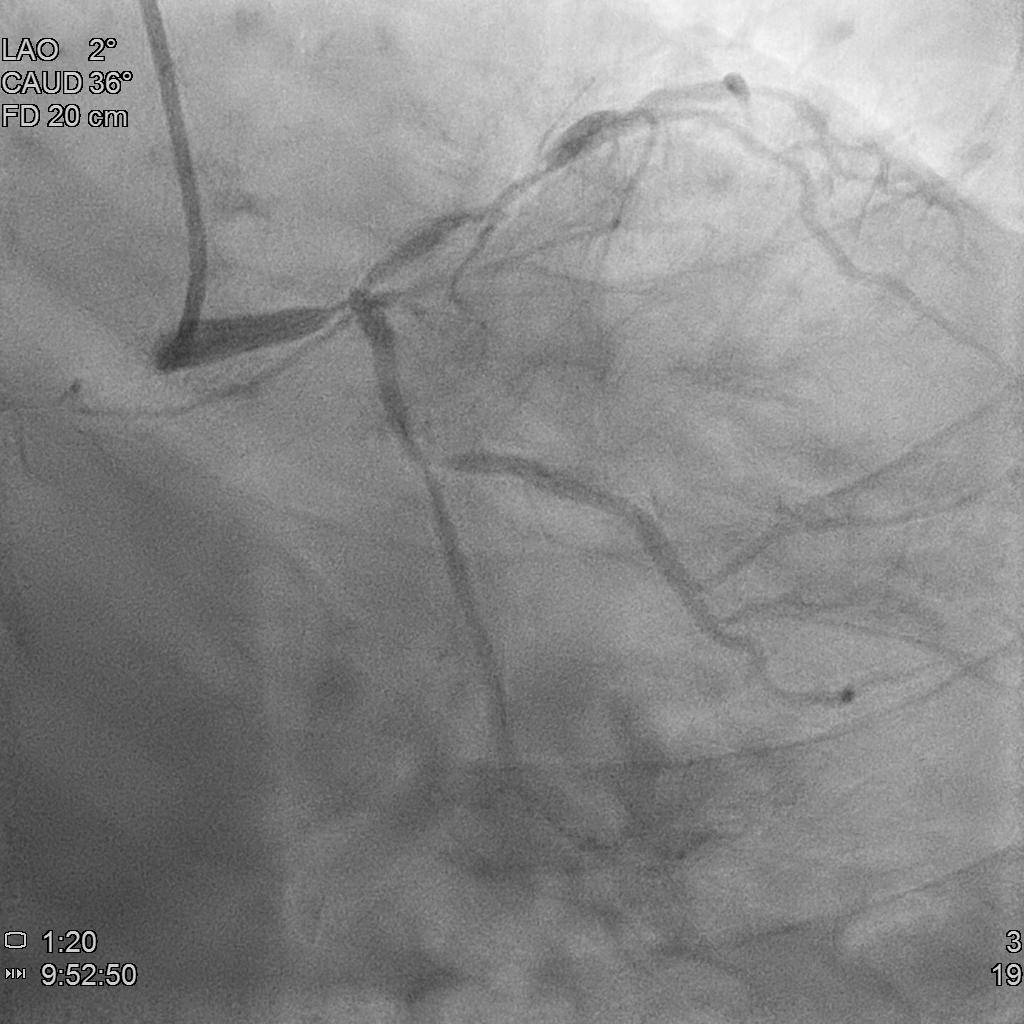block: (432, 136, 603, 247)
